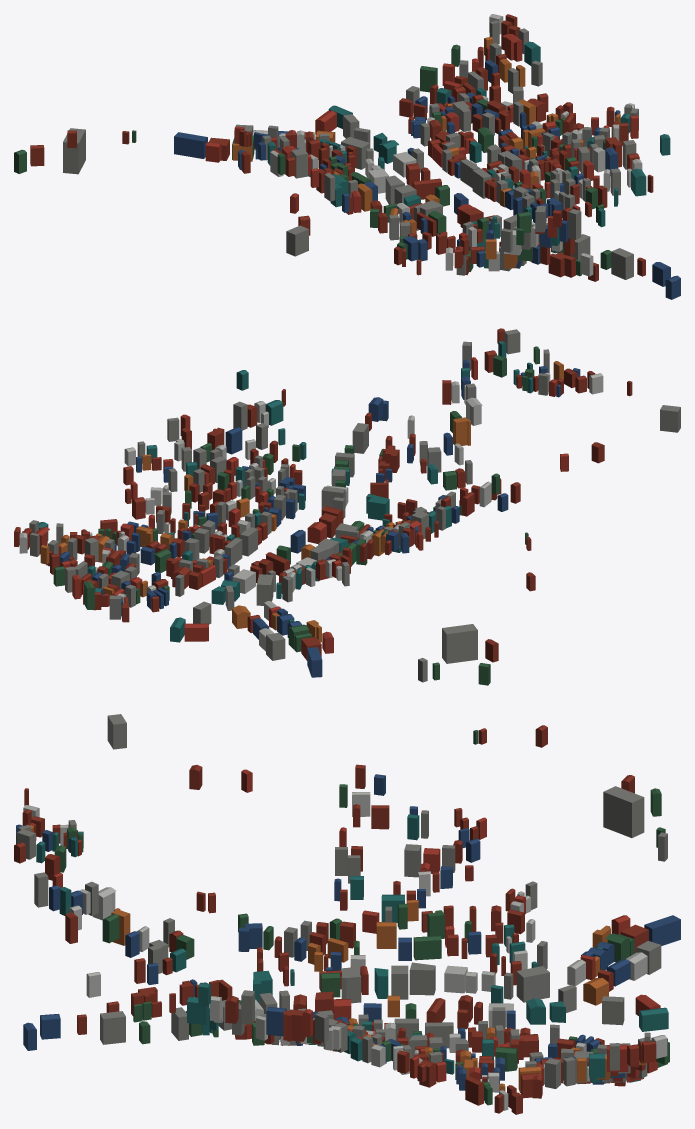
Rendered from near-16-54721-29733.adb8041c.glb.
The picture shows the model from 3 angles, top to bottom: view 1: azimuth 30°, elevation 25°; view 2: azimuth 150°, elevation 25°; view 3: azimuth 270°, elevation 25°; orthographic projection. The views are drawn at different scales.
Bounding box in the file's own units: 596 × 155 × 602.
